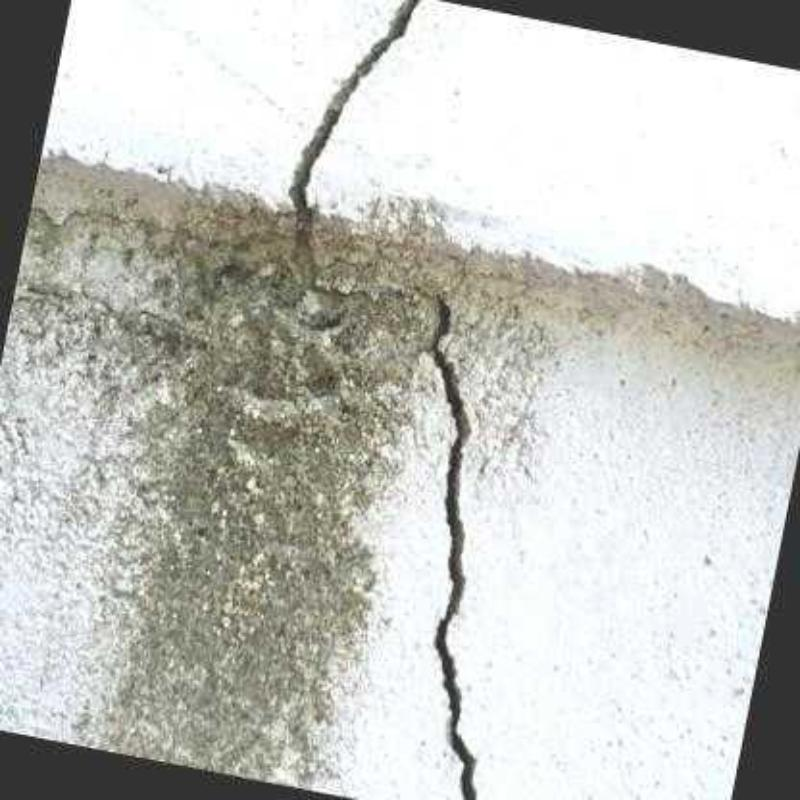pothole: (288, 0, 476, 800)
